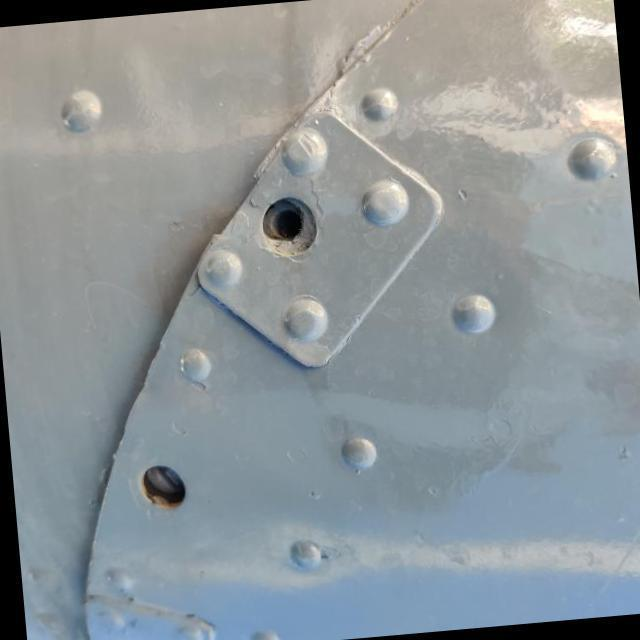Missing Fastener: (258, 195, 316, 255), (133, 462, 199, 514)
